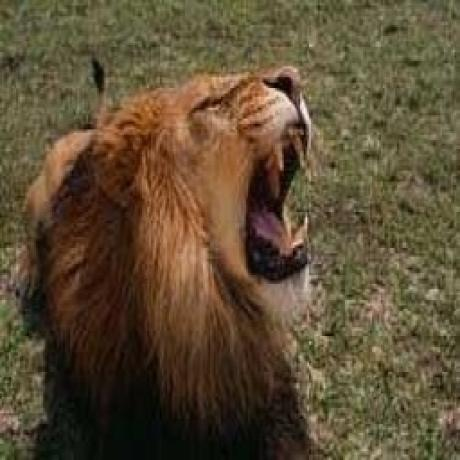Lion: (17, 55, 314, 460)
